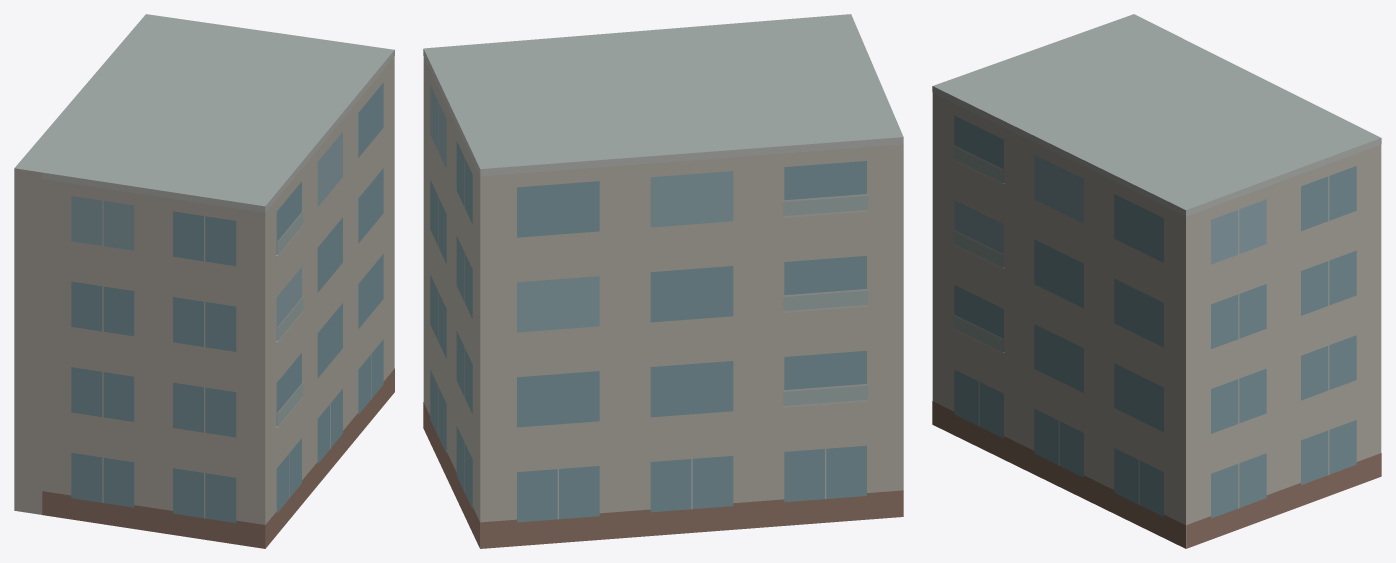
File: survey-upis-32867112.glb
3 renders of one model, left to right at view 1: azimuth 30°, elevation 25°; view 2: azimuth 150°, elevation 25°; view 3: azimuth 270°, elevation 25°, orthographic. The views are drawn at different scales.
Visible parts, largest first — view 1: survey-upis-32867112.tmp; view 2: survey-upis-32867112.tmp; view 3: survey-upis-32867112.tmp.
Boxes of the visible parts, x1=… form: survey-upis-32867112.tmp: x1=14, y1=14, x2=394, y2=548; survey-upis-32867112.tmp: x1=423, y1=14, x2=903, y2=548; survey-upis-32867112.tmp: x1=932, y1=14, x2=1381, y2=548.
Size of the model in its own units: 16.04 by 12.9 by 15.5.
